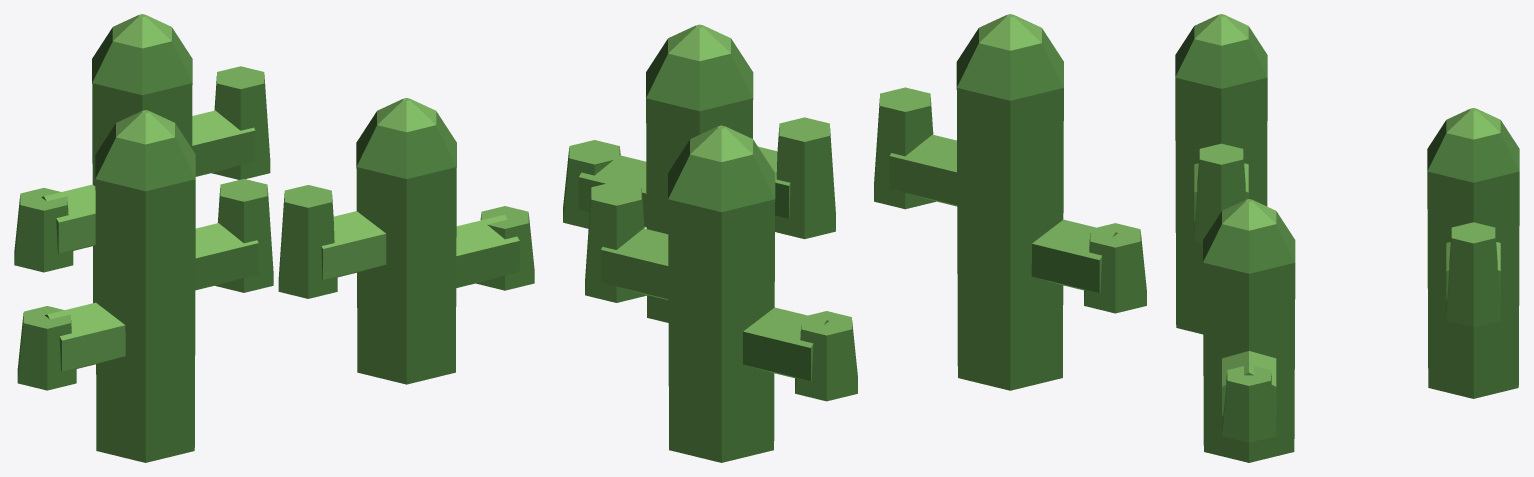
The model's file is cactus-harvested.glb.
The picture shows the model from 3 angles, left to right: view 1: azimuth 30°, elevation 25°; view 2: azimuth 150°, elevation 25°; view 3: azimuth 270°, elevation 25°; orthographic projection. The views are drawn at different scales.
Parts seen in each view (by area): view 1: cactus-harvested; view 2: cactus-harvested; view 3: cactus-harvested.
Part boxes in pixels (bbox=[...]): cactus-harvested: bbox=[14, 14, 534, 462]; cactus-harvested: bbox=[563, 14, 1146, 462]; cactus-harvested: bbox=[1175, 14, 1519, 462].
Size of the model in its own units: 0.7569 by 0.465 by 0.4611.
Materials: 1 (1 with a texture image).
